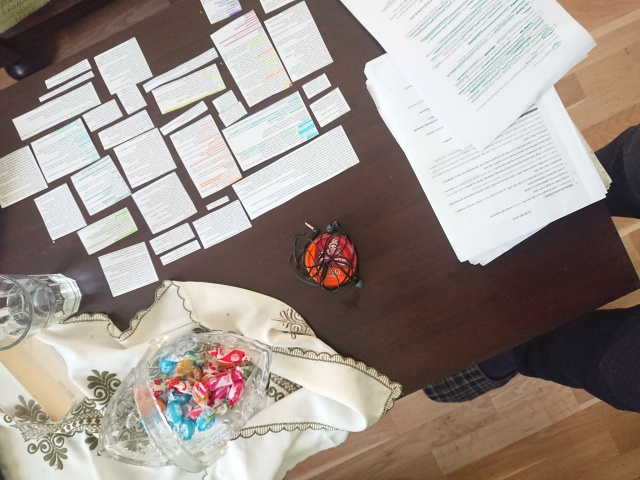Gavrilovic Pork Liver Pate 100g: (302, 230, 359, 290)
